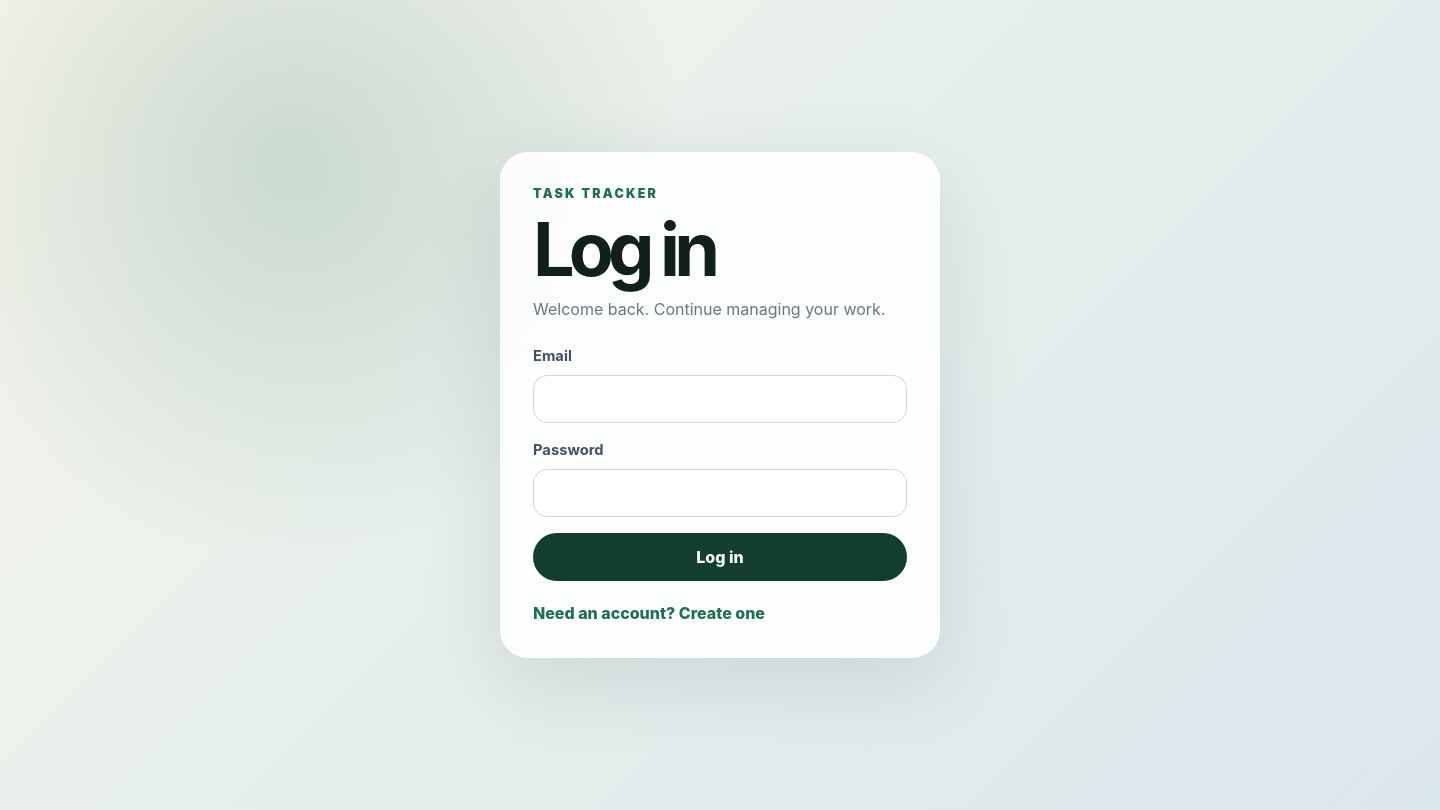
Test: App › logs in and navigates to the task dashboard
The width and height of the screenshot is (1440, 810).
Type "user@example.com" into the field labelled "Email".
click(720, 399); type("user@example.com")  # box [533,375,907,423]
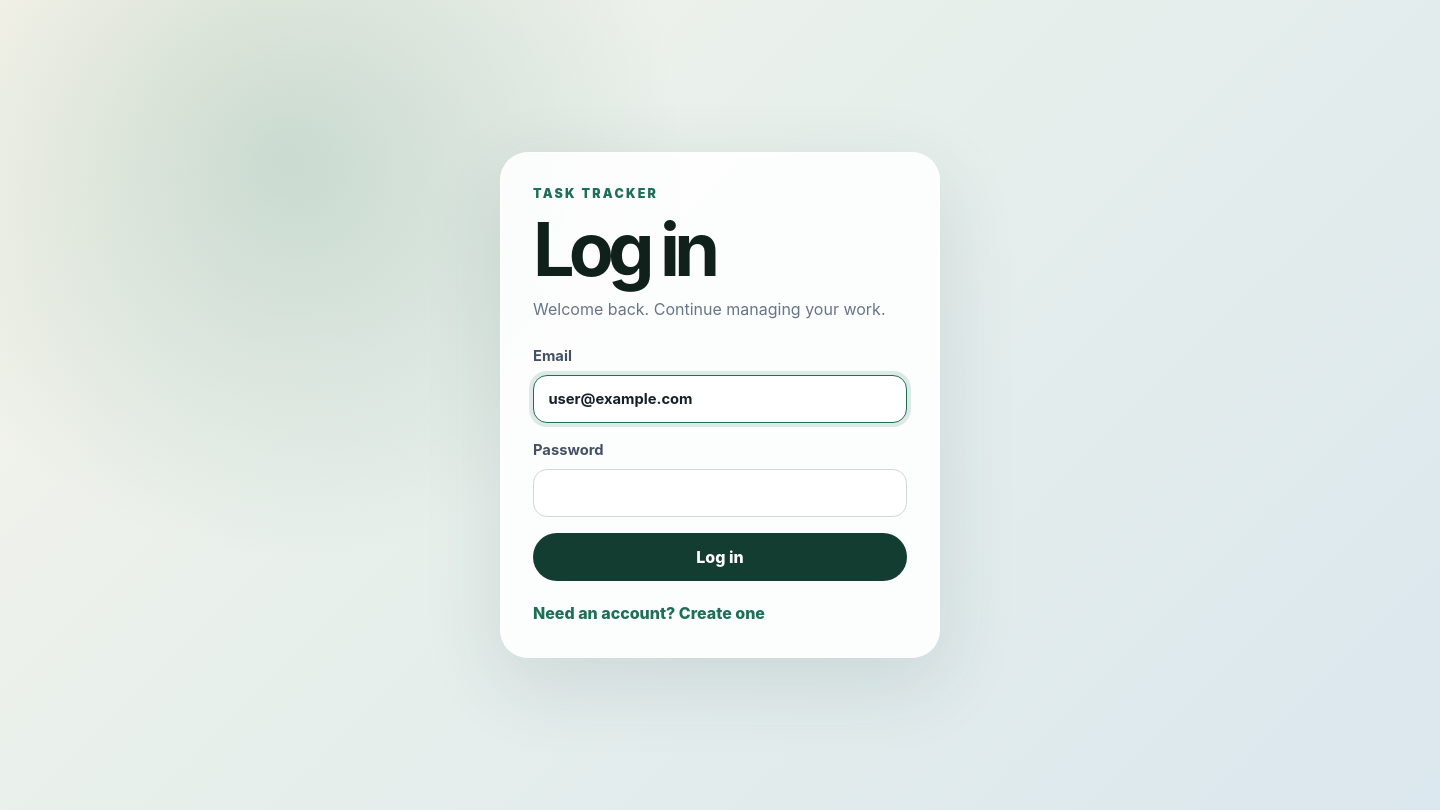
Type "password123" into the password field labelled "Password".
click(720, 493); type("password123")  # box [533,469,907,518]
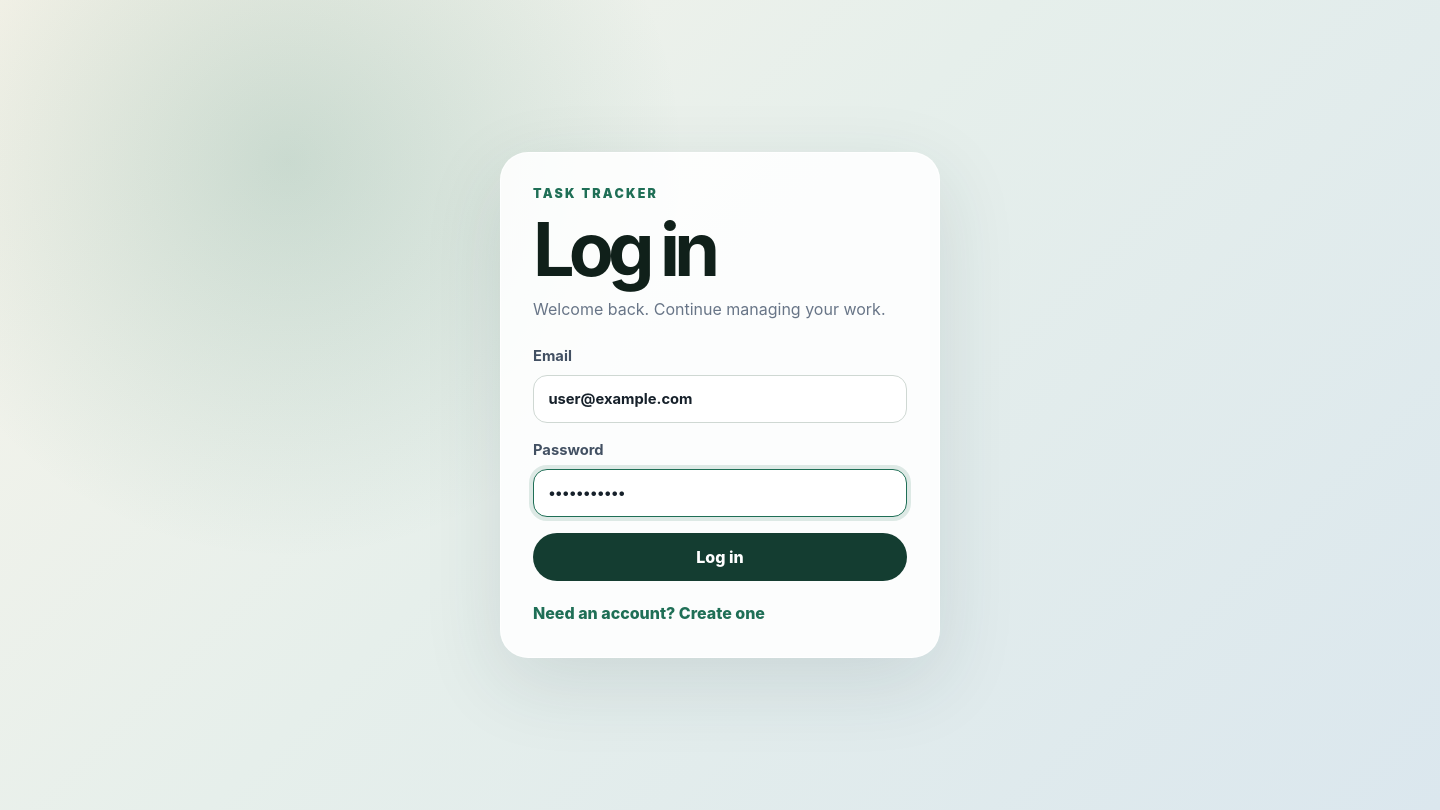
Click the button "Log in".
click(720, 558)  # box [533,534,907,582]
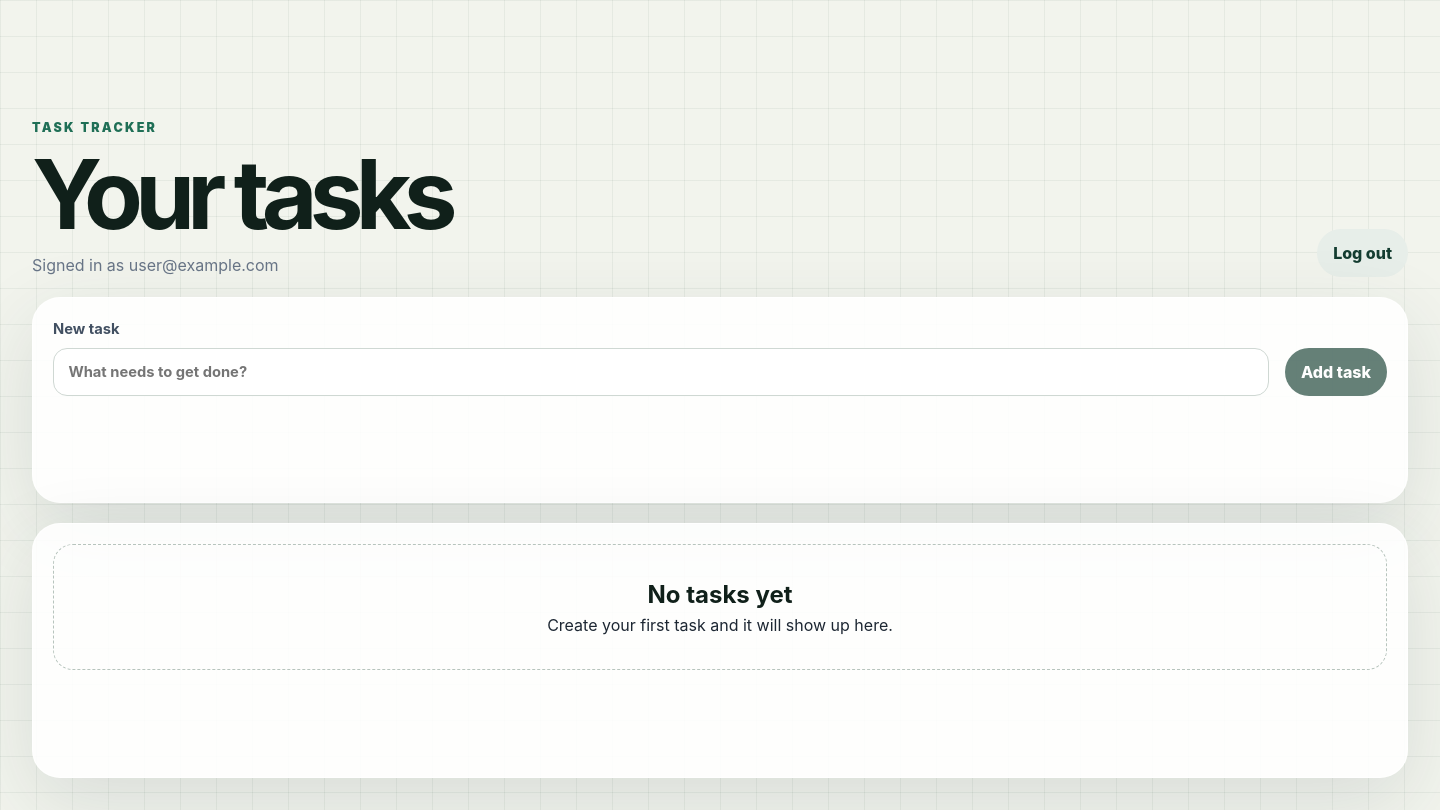
Check: the heading "Your tasks" is shown, box [32,149,450,241]
